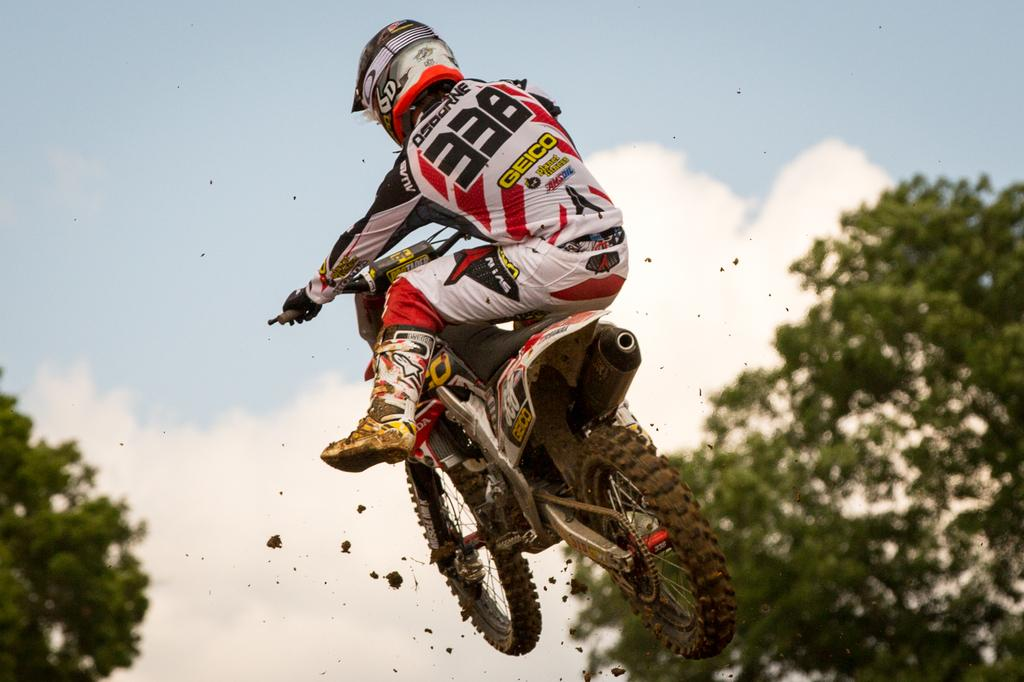helmet: (351, 19, 465, 149)
